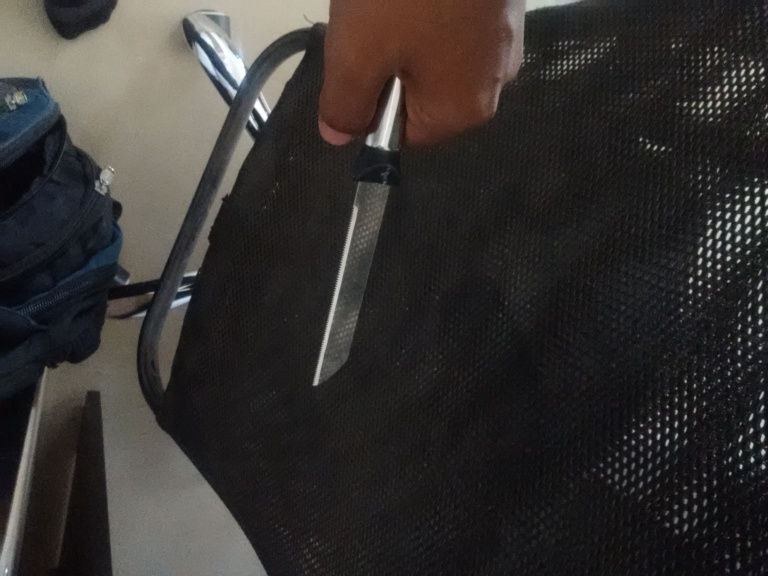knife: (309, 81, 426, 390)
